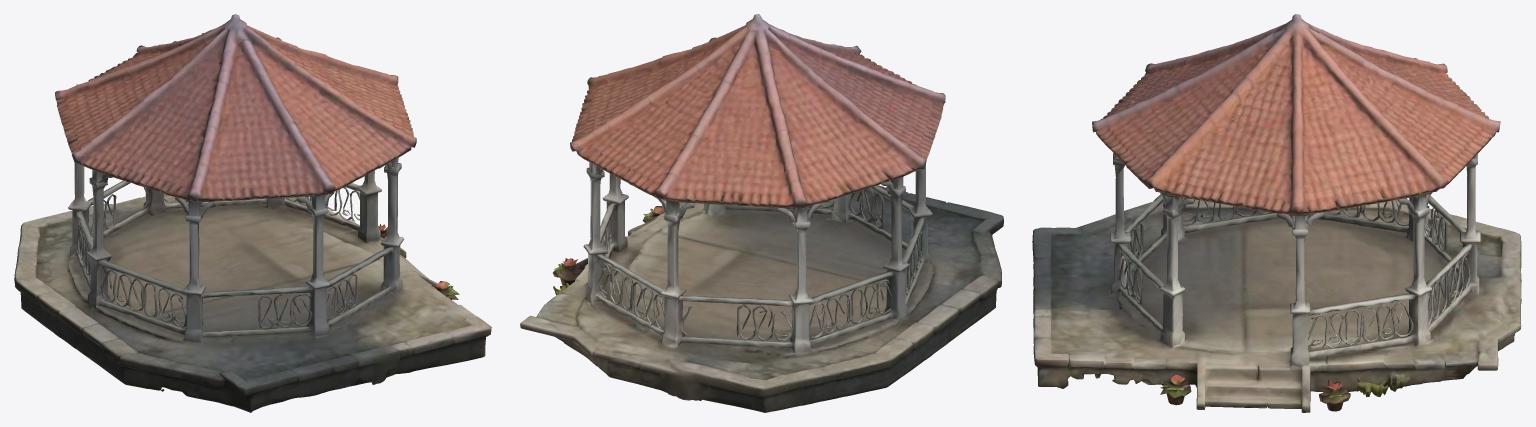
File: cid_coreto.glb
3 views of the same model, side by side, from view 1: azimuth 30°, elevation 25°; view 2: azimuth 150°, elevation 25°; view 3: azimuth 270°, elevation 25° (orthographic). The views are drawn at different scales.
Visible parts, largest first — view 1: tripo_node_cf4ea48a-455e-40b2-b926-6409916f9654; view 2: tripo_node_cf4ea48a-455e-40b2-b926-6409916f9654; view 3: tripo_node_cf4ea48a-455e-40b2-b926-6409916f9654.
Boxes of the visible parts, x1=… form: tripo_node_cf4ea48a-455e-40b2-b926-6409916f9654: x1=14, y1=14, x2=491, y2=412; tripo_node_cf4ea48a-455e-40b2-b926-6409916f9654: x1=520, y1=14, x2=1003, y2=412; tripo_node_cf4ea48a-455e-40b2-b926-6409916f9654: x1=1032, y1=14, x2=1521, y2=412.
Bounding box in the file's own units: 0.8934 × 0.6944 × 0.9976.
1 material, 1 textured.
